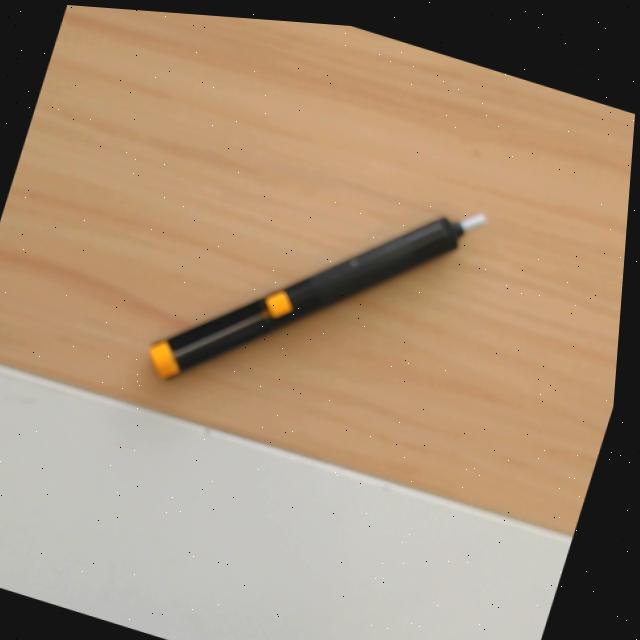Desoldering-Pump: (142, 193, 490, 381)
